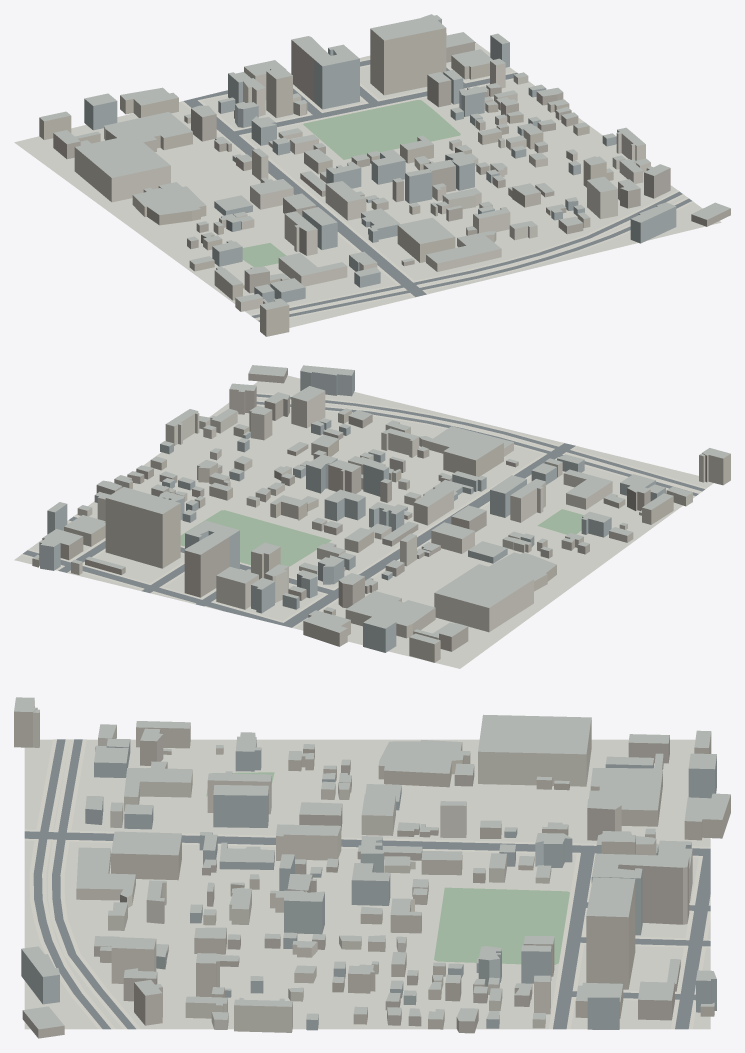
3 views of the same model, one above another, from view 1: azimuth 30°, elevation 25°; view 2: azimuth 150°, elevation 25°; view 3: azimuth 270°, elevation 25° (orthographic). The views are drawn at different scales.
Parts seen in each view (by area): view 1: city; view 2: city; view 3: city.
Boxes of the visible parts, x1,y1,x2,y2 form: city: [14, 14, 730, 336]; city: [14, 365, 730, 668]; city: [14, 697, 730, 1038].
Bounding box in the file's own units: 527 × 58.4 × 523.
